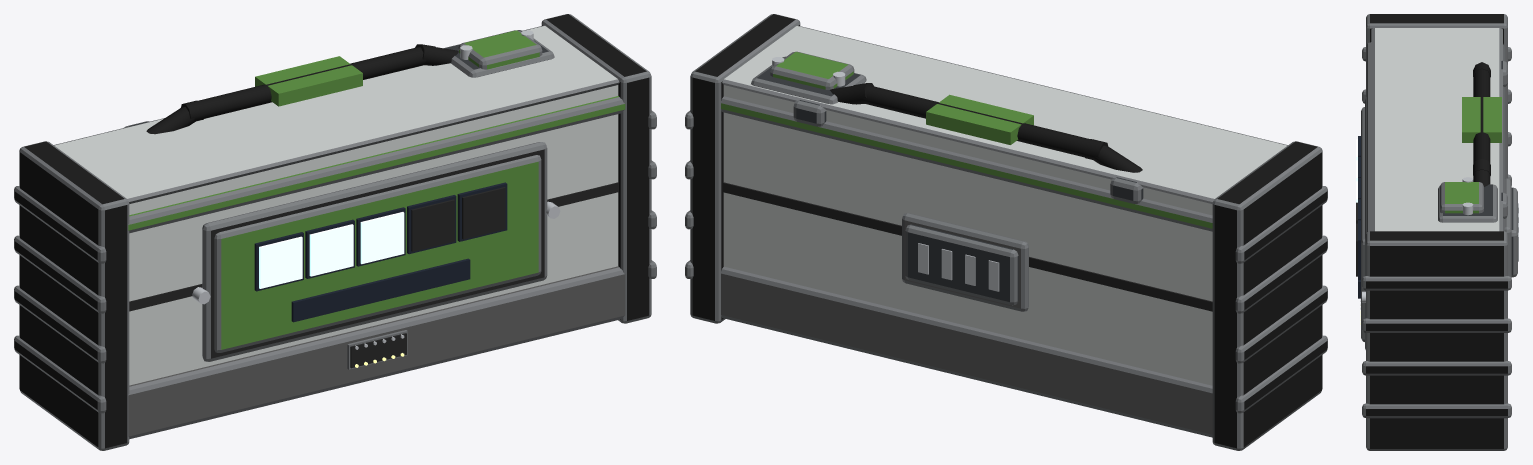
Rendered from power_cell.fbx.
The picture shows the model from 3 angles, left to right: view 1: azimuth 30°, elevation 25°; view 2: azimuth 150°, elevation 25°; view 3: azimuth 270°, elevation 25°; orthographic projection. The views are drawn at different scales.
Visible parts, largest first — view 1: Mesh_PowerCell_Slab_Shell, Mesh_PowerCell_Slab_Face, Mesh_PowerCell_Slab_Bumpers, Mesh_PowerCell_Slab_Strap, Mesh_PowerCell_Slab_Latch; view 2: Mesh_PowerCell_Slab_Shell, Mesh_PowerCell_Slab_Bumpers, Mesh_PowerCell_Slab_Port, Mesh_PowerCell_Slab_Strap, Mesh_PowerCell_Slab_Latch; view 3: Mesh_PowerCell_Slab_Bumpers, Mesh_PowerCell_Slab_Shell, Mesh_PowerCell_Slab_Strap, Mesh_PowerCell_Slab_Latch, Mesh_PowerCell_Slab_Face, Mesh_PowerCell_Slab_Port.
Boxes of the visible parts, <box> form: Mesh_PowerCell_Slab_Shell: <box>54,25,625,439</box>; Mesh_PowerCell_Slab_Face: <box>192,142,560,369</box>; Mesh_PowerCell_Slab_Bumpers: <box>14,14,656,450</box>; Mesh_PowerCell_Slab_Strap: <box>124,44,458,134</box>; Mesh_PowerCell_Slab_Latch: <box>444,30,554,77</box>; Mesh_PowerCell_Slab_Shell: <box>721,26,1287,437</box>; Mesh_PowerCell_Slab_Bumpers: <box>685,14,1327,450</box>; Mesh_PowerCell_Slab_Port: <box>902,213,1028,311</box>; Mesh_PowerCell_Slab_Strap: <box>793,83,1143,203</box>; Mesh_PowerCell_Slab_Latch: <box>751,51,866,104</box>; Mesh_PowerCell_Slab_Bumpers: <box>1362,14,1511,450</box>; Mesh_PowerCell_Slab_Shell: <box>1366,28,1504,232</box>; Mesh_PowerCell_Slab_Strap: <box>1462,60,1507,218</box>; Mesh_PowerCell_Slab_Latch: <box>1438,177,1497,222</box>; Mesh_PowerCell_Slab_Face: <box>1356,97,1366,349</box>; Mesh_PowerCell_Slab_Port: <box>1504,178,1518,278</box>.
Size of the model in its own units: 55 by 24.9 by 16.3.
